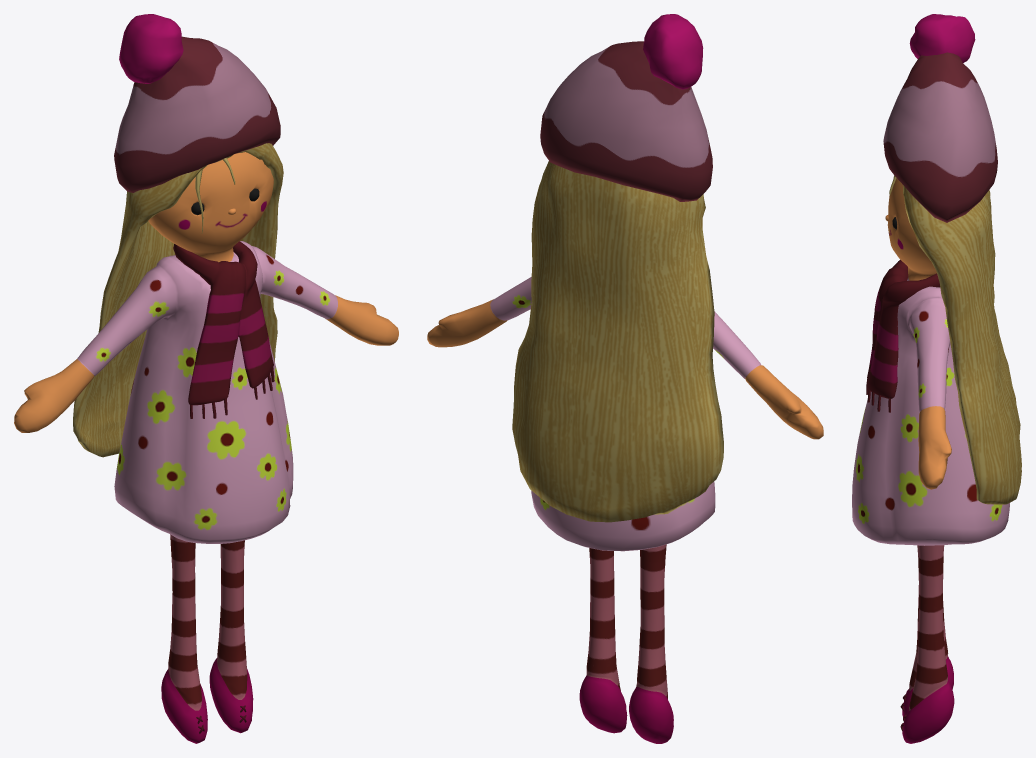
File: test_doll.glb
The picture shows the model from 3 angles, left to right: view 1: azimuth 30°, elevation 25°; view 2: azimuth 150°, elevation 25°; view 3: azimuth 270°, elevation 25°; orthographic projection. The views are drawn at different scales.
Visible parts, largest first — view 1: node_id30; view 2: node_id30; view 3: node_id30.
Boxes of the visible parts, left/top/right/bottom form: node_id30: left=14, top=14, right=398, bottom=743; node_id30: left=427, top=14, right=823, bottom=743; node_id30: left=852, top=14, right=1021, bottom=743.
Bounding box in the file's own units: 0.2855 × 0.512 × 0.1136.
Materials: 1 (1 with a texture image).
